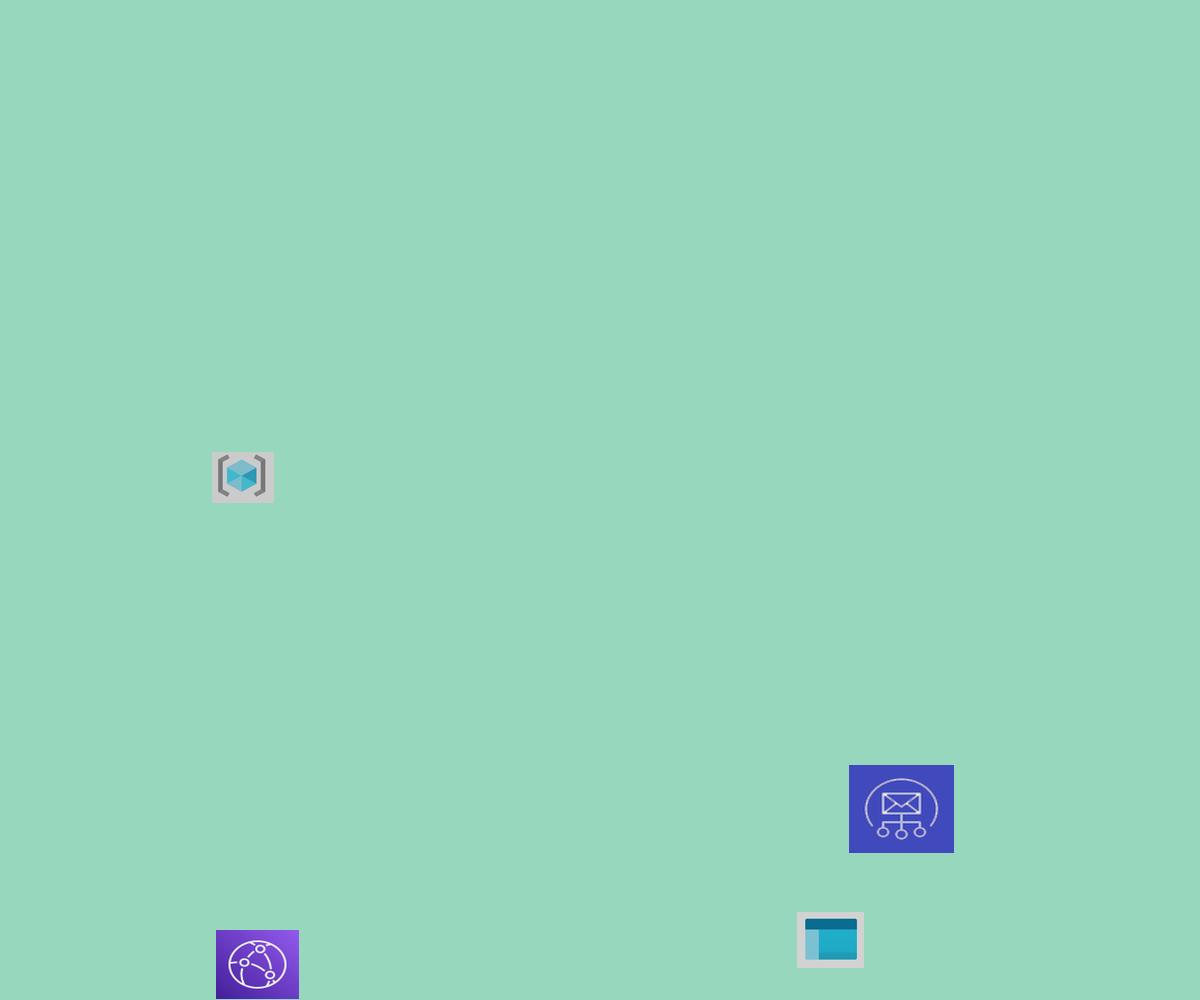AWS-CloudFront: (216, 930, 299, 999)
AWS-Simple-Email-Service: (849, 765, 954, 853)
Azure_management-portal: (797, 912, 864, 968)
Azure_resource_group: (212, 452, 274, 503)
